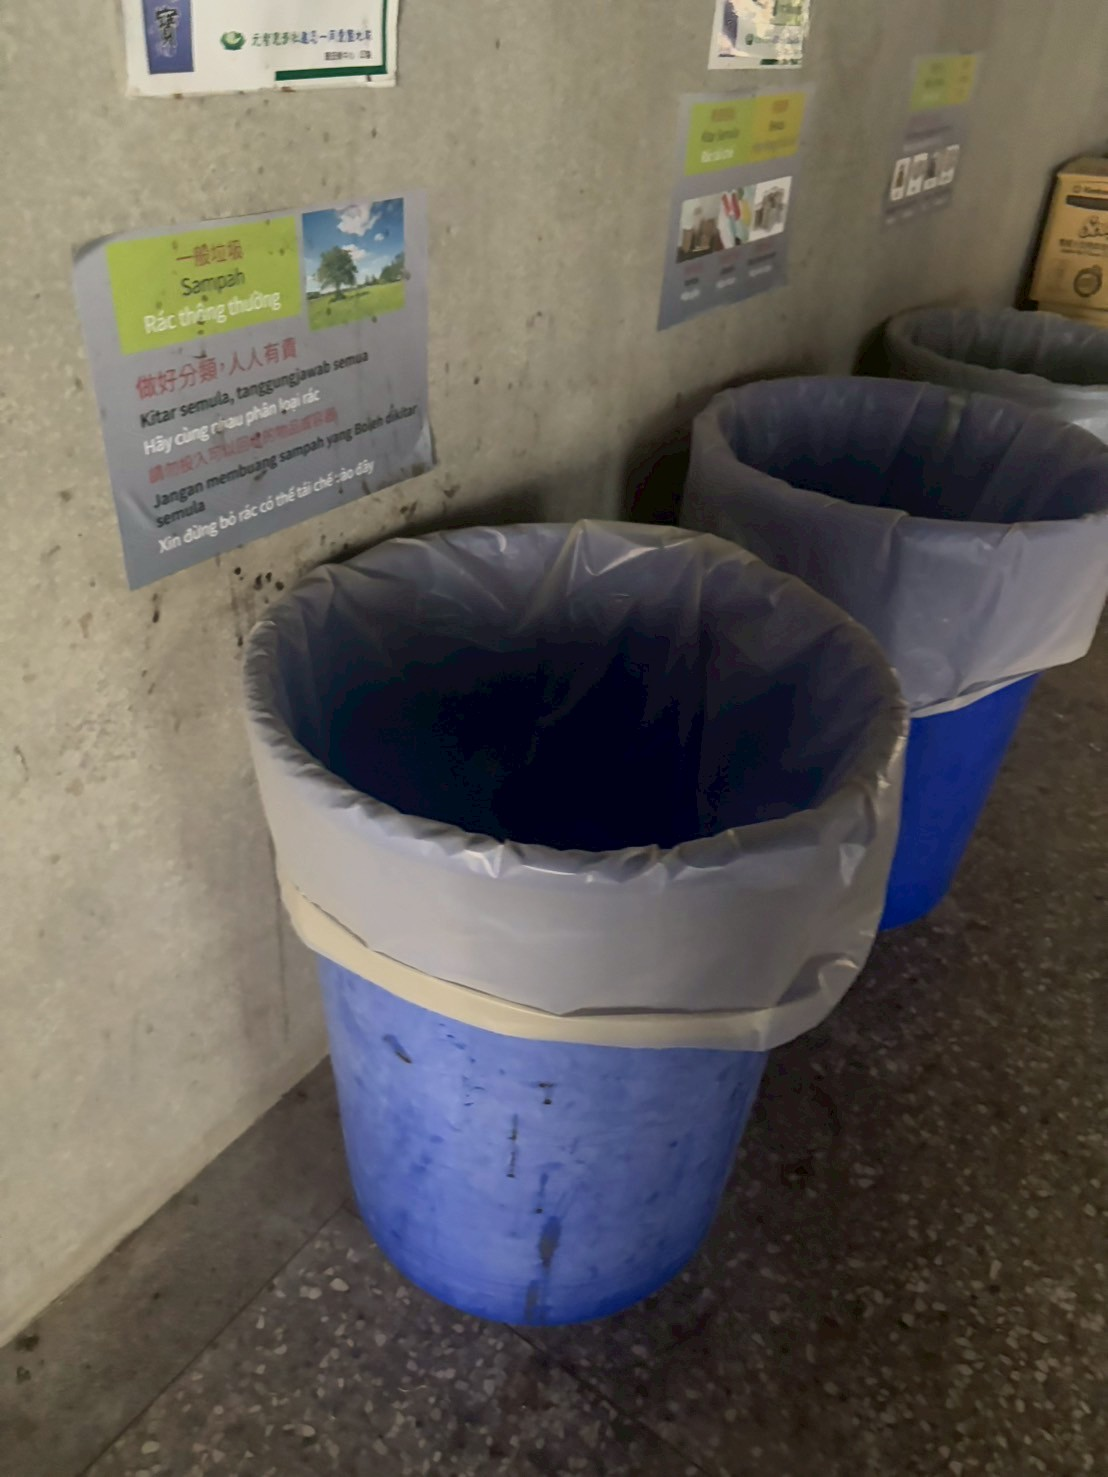normal_bin: (209, 492, 895, 1348)
